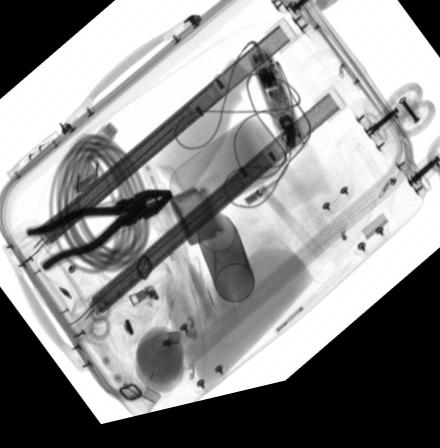Pliers: (24, 195, 172, 277)
